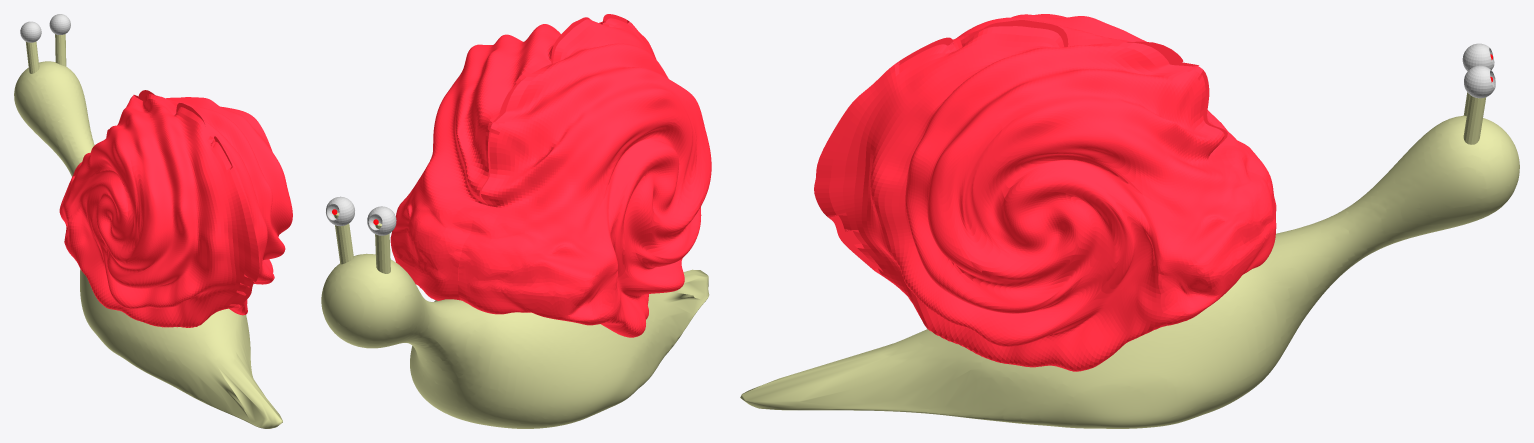
Rendered from caracol1.glb.
The picture shows the model from 3 angles, left to right: view 1: azimuth 30°, elevation 25°; view 2: azimuth 150°, elevation 25°; view 3: azimuth 270°, elevation 25°; orthographic projection. The views are drawn at different scales.
Parts seen in each view (by area): view 1: Cube, Cylinder.001, Sphere.001, Sphere; view 2: Cube, Cylinder.001, Sphere, Sphere.001; view 3: Cube, Cylinder.001, Sphere.
Part boxes in pixels (x1,y1,x2,y2): Cube: (59,90,292,327); Cylinder.001: (14,34,282,428); Sphere.001: (20,21,41,42); Sphere: (49,14,70,34); Cube: (390,14,711,337); Cylinder.001: (321,213,709,428); Sphere: (326,196,354,226); Sphere.001: (367,206,396,235); Cube: (814,14,1276,371); Cylinder.001: (740,92,1519,428); Sphere: (1464,65,1495,98).
Bounding box in the file's own units: 1.72 × 2.64 × 4.76.
